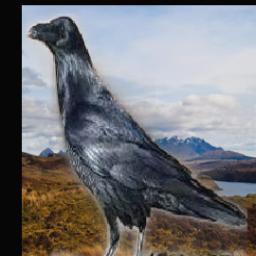Crow: (27, 15, 248, 256)
